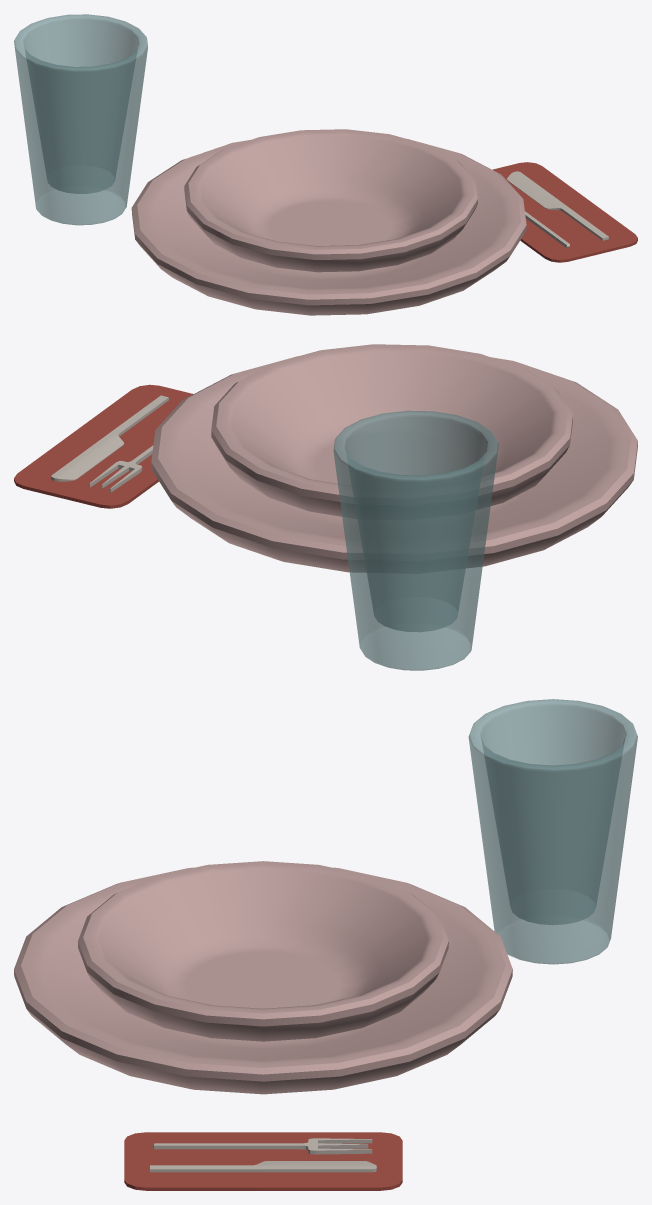
File: Set.fbx
3 renders of one model, top to bottom at view 1: azimuth 30°, elevation 25°; view 2: azimuth 150°, elevation 25°; view 3: azimuth 270°, elevation 25°, orthographic. The views are drawn at different scales.
Parts seen in each view (by area): view 1: pCylinder1, pCylinder2, pCylinder3, pCube2, pCube3; view 2: pCylinder1, pCylinder3, pCylinder2, pCube2, pCube3, pCube1; view 3: pCylinder1, pCylinder2, pCylinder3, pCube2, pCube3, pCube1.
Part boxes in pixels (x1=…): pCylinder1: x1=184, y1=129, x2=477, y2=272; pCylinder2: x1=131, y1=139, x2=526, y2=315; pCylinder3: x1=14, y1=14, x2=147, y2=225; pCube2: x1=492, y1=162, x2=637, y2=262; pCube3: x1=507, y1=171, x2=608, y2=240; pCylinder1: x1=211, y1=344, x2=572, y2=518; pCylinder3: x1=333, y1=410, x2=498, y2=670; pCylinder2: x1=151, y1=356, x2=637, y2=572; pCube2: x1=14, y1=384, x2=193, y2=508; pCube3: x1=51, y1=395, x2=168, y2=481; pCube1: x1=89, y1=445, x2=153, y2=492; pCylinder1: x1=78, y1=861, x2=448, y2=1041; pCylinder2: x1=14, y1=867, x2=512, y2=1094; pCylinder3: x1=468, y1=699, x2=637, y2=964; pCube2: x1=124, y1=1132, x2=402, y2=1190; pCube3: x1=150, y1=1161, x2=376, y2=1172; pCube1: x1=152, y1=1138, x2=372, y2=1154.
Bounding box in the file's own units: 31.06 × 11.35 × 29.63.
